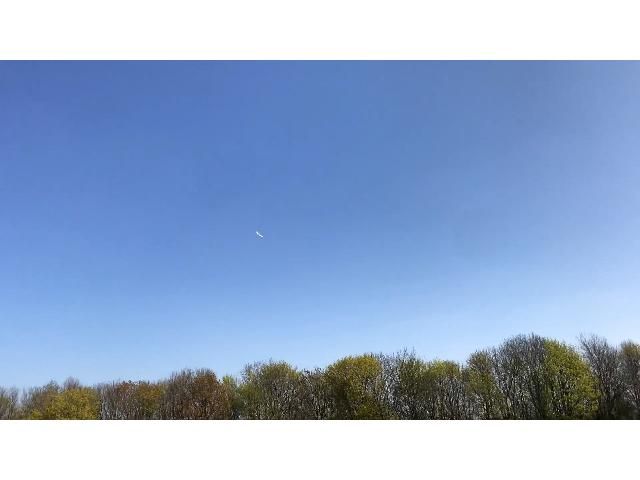Anti-Drone: (249, 224, 273, 242)
